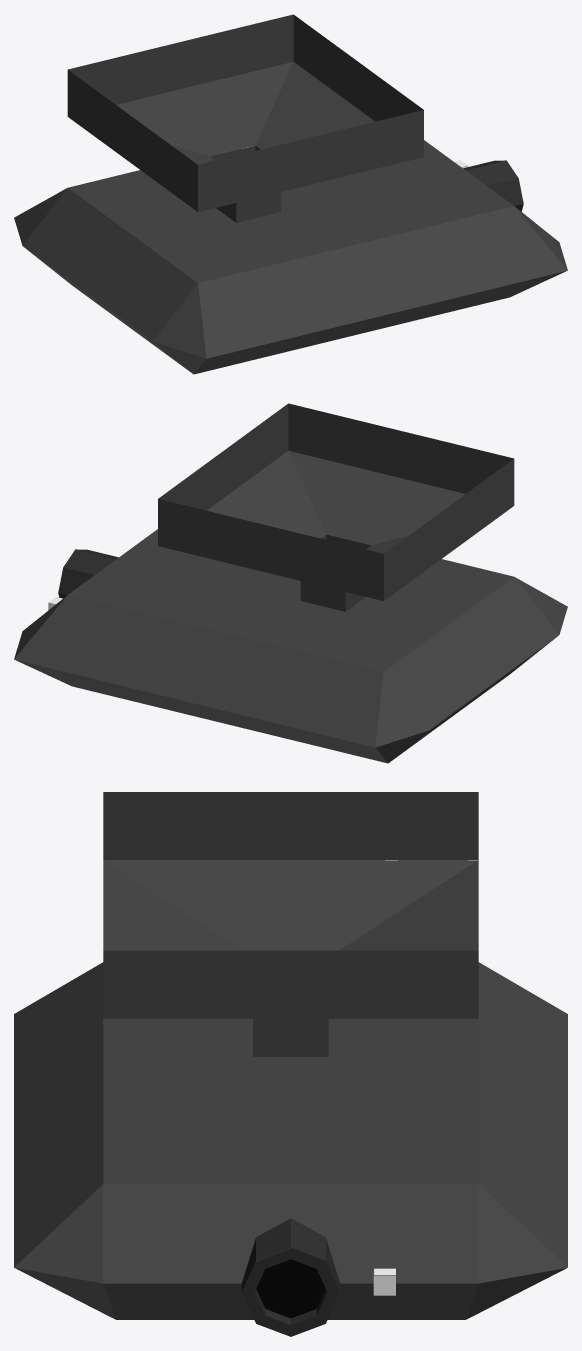
3 renders of one model, top to bottom at view 1: azimuth 30°, elevation 25°; view 2: azimuth 150°, elevation 25°; view 3: azimuth 270°, elevation 25°, orthographic. The views are drawn at different scales.
Visible parts, largest first — view 1: Camera, Mount; view 2: Camera, Mount; view 3: Camera, Mount.
Part boxes in pixels (x1,y1,x2,y2): Camera: (14, 140, 567, 374); Mount: (67, 14, 423, 222); Camera: (14, 529, 567, 763); Mount: (158, 403, 514, 611); Camera: (14, 962, 567, 1336); Mount: (103, 792, 478, 1056).
Size of the model in its own units: 0.0927 by 0.0739 by 0.045.
2 materials, 2 textured.
